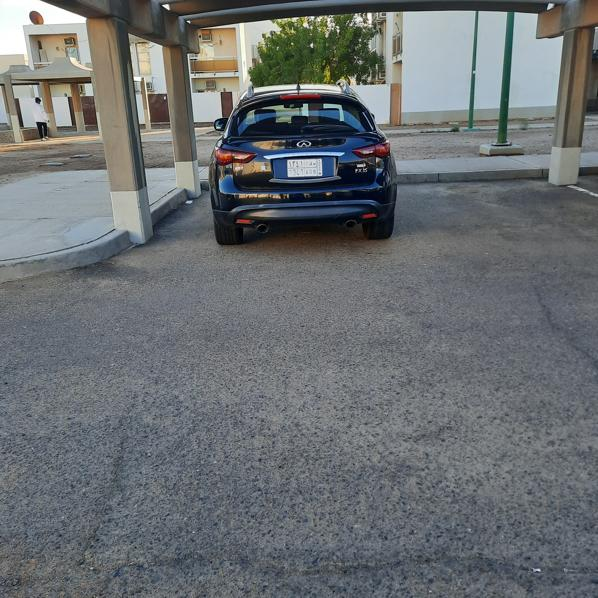numberplate: (286, 159, 323, 177)
